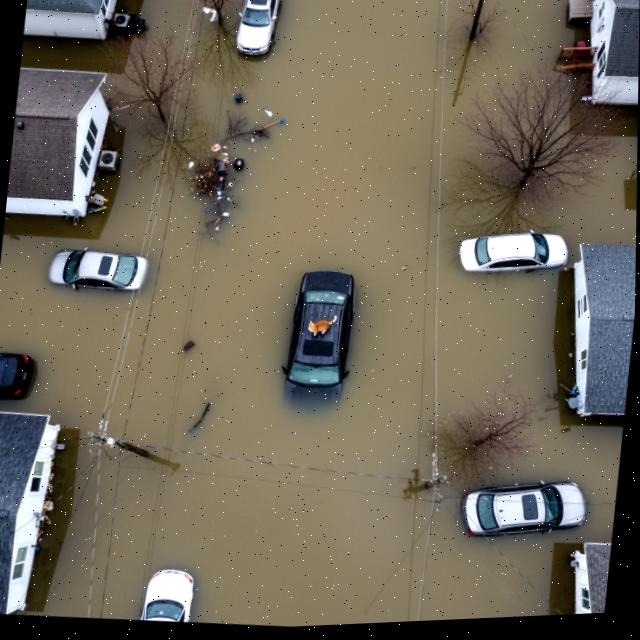cat: (304, 310, 340, 341)
